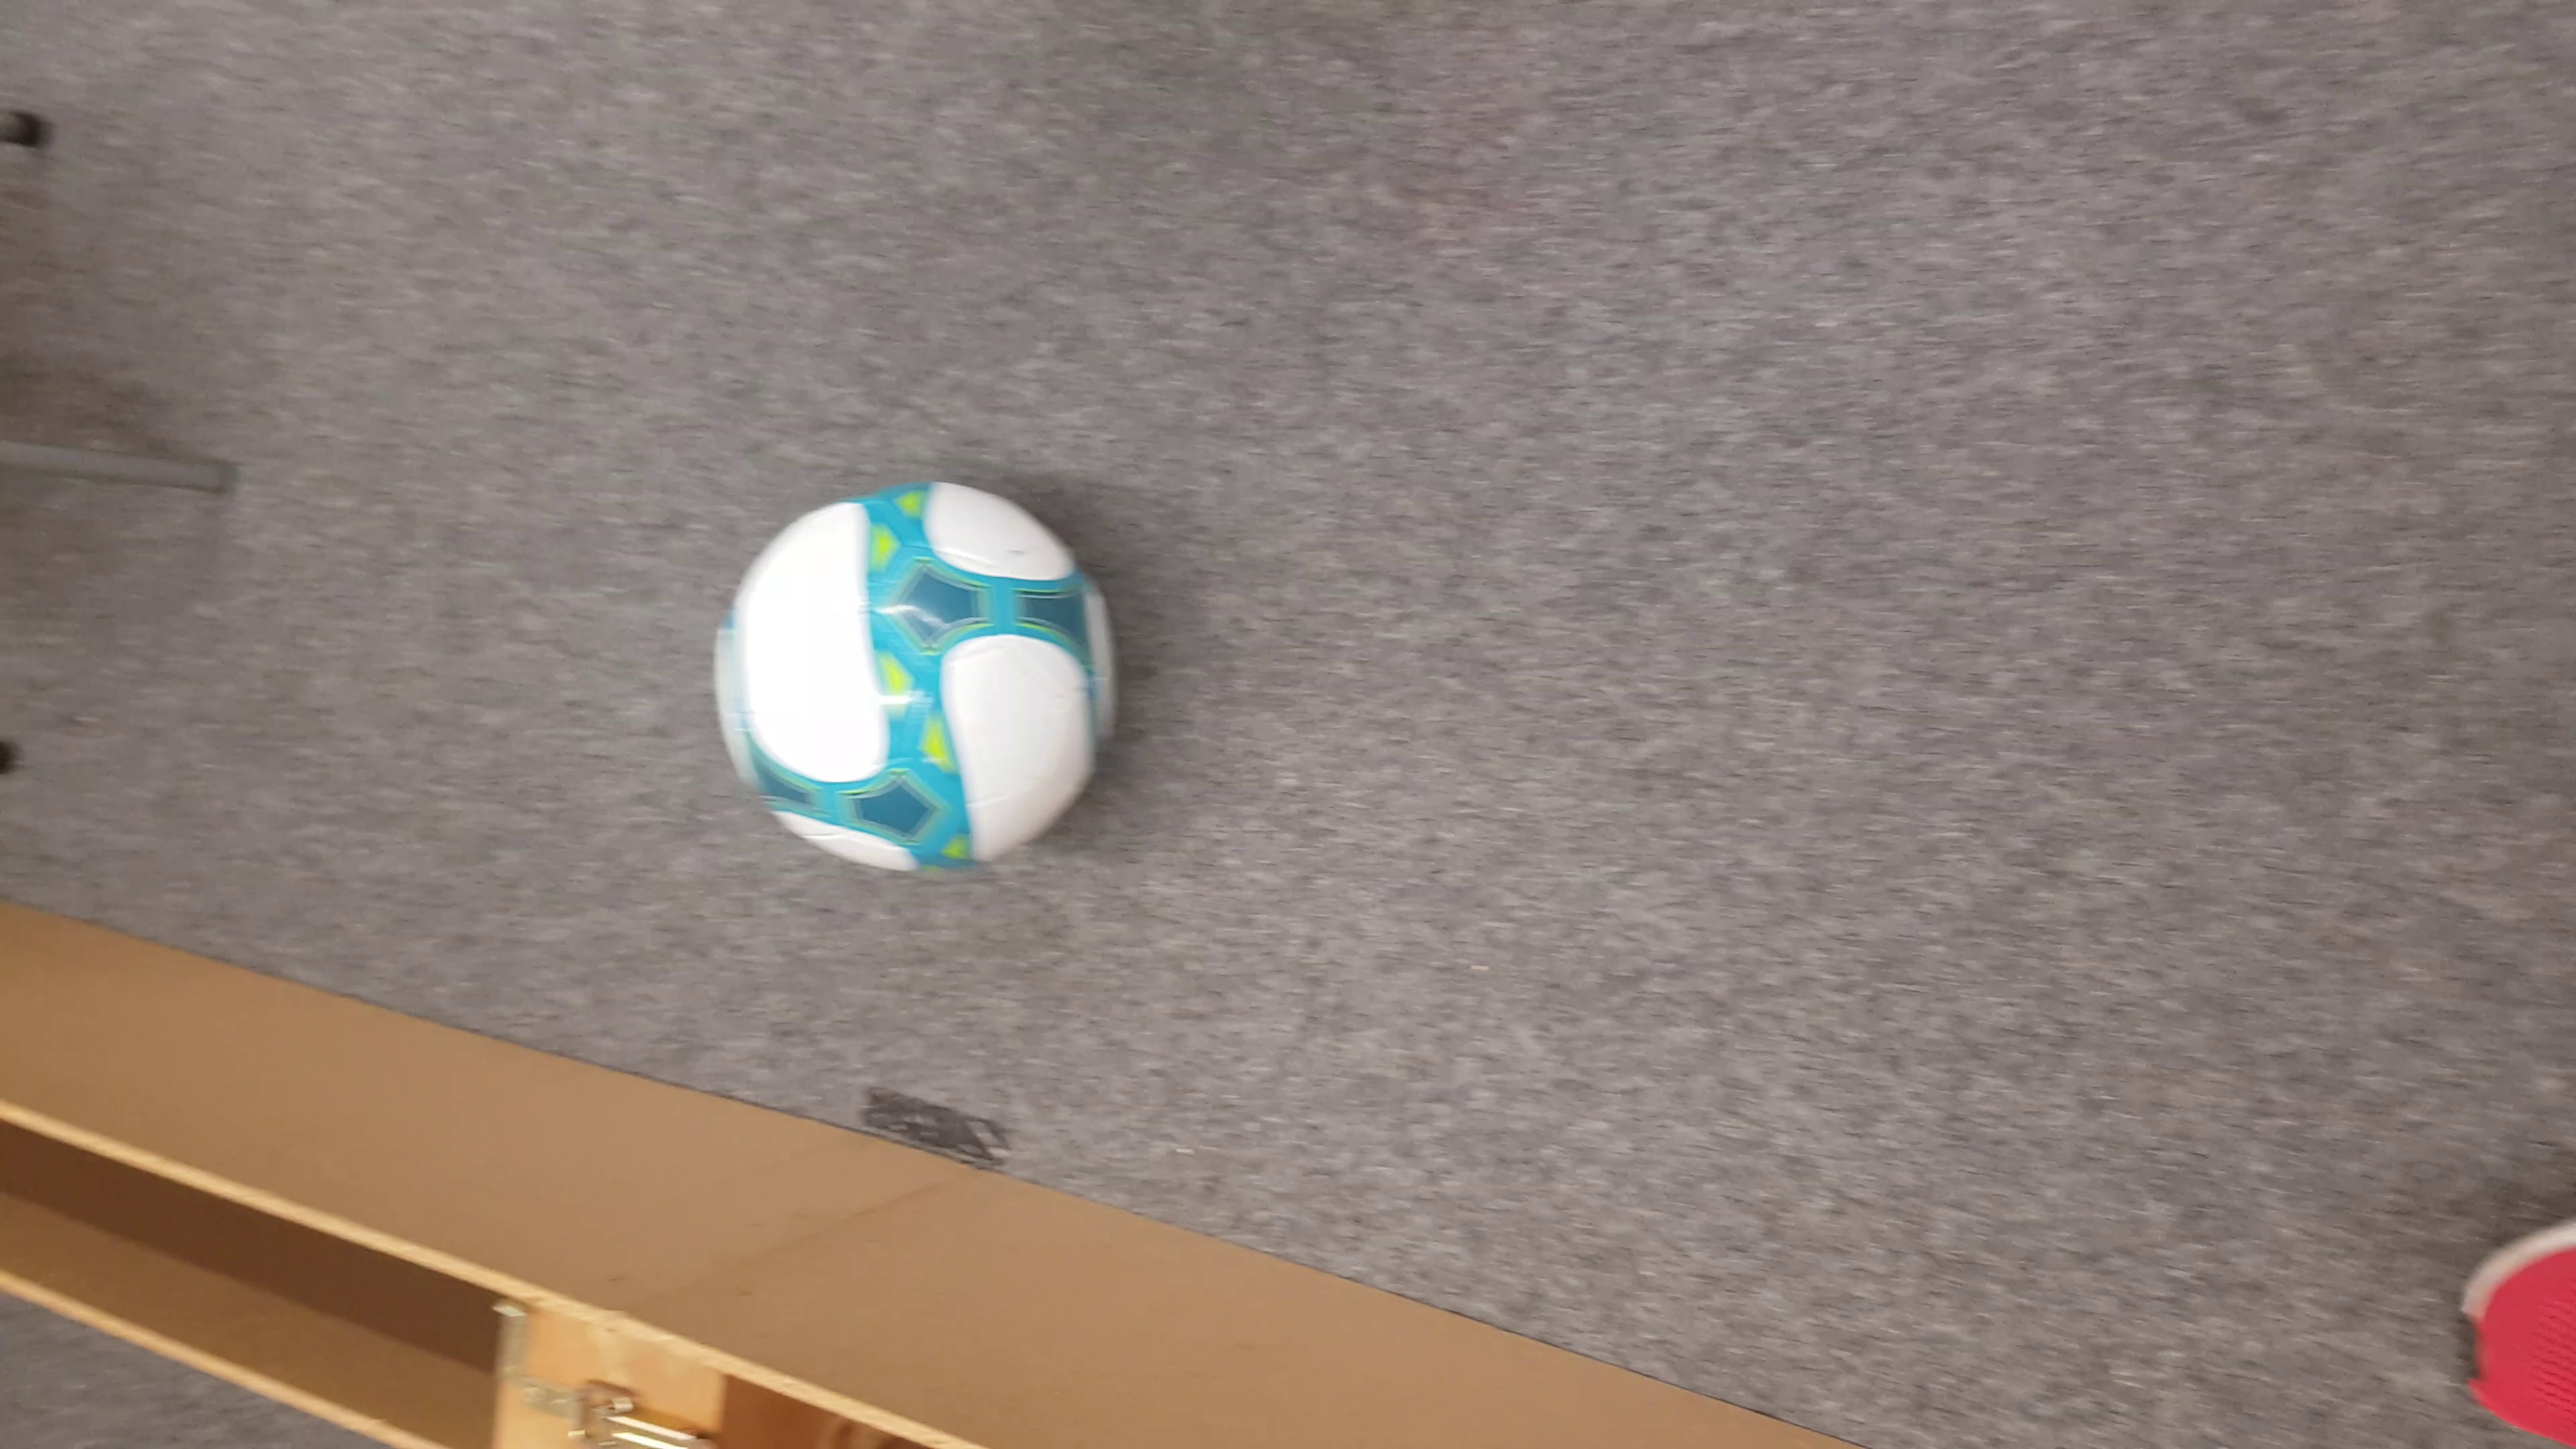kick: (713, 492, 1122, 863)
